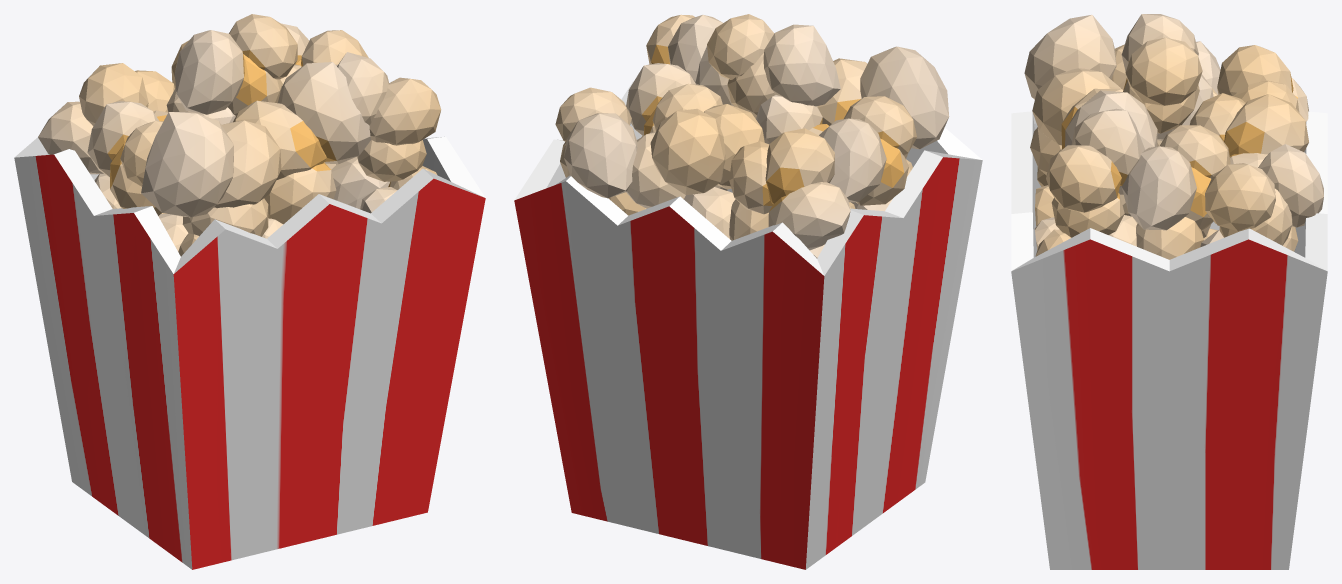
Rendered from Popcorn.fbx.
The picture shows the model from 3 angles, left to right: view 1: azimuth 30°, elevation 25°; view 2: azimuth 150°, elevation 25°; view 3: azimuth 270°, elevation 25°; orthographic projection.
Parts seen in each view (by area): view 1: Popcorn; view 2: Popcorn; view 3: Popcorn.
Boxes of the visible parts, <box> form: Popcorn: <box>14,14,485,569</box>; Popcorn: <box>514,14,982,569</box>; Popcorn: <box>1011,14,1327,569</box>.
Size of the model in its own units: 12.66 by 18.6 by 11.2.
